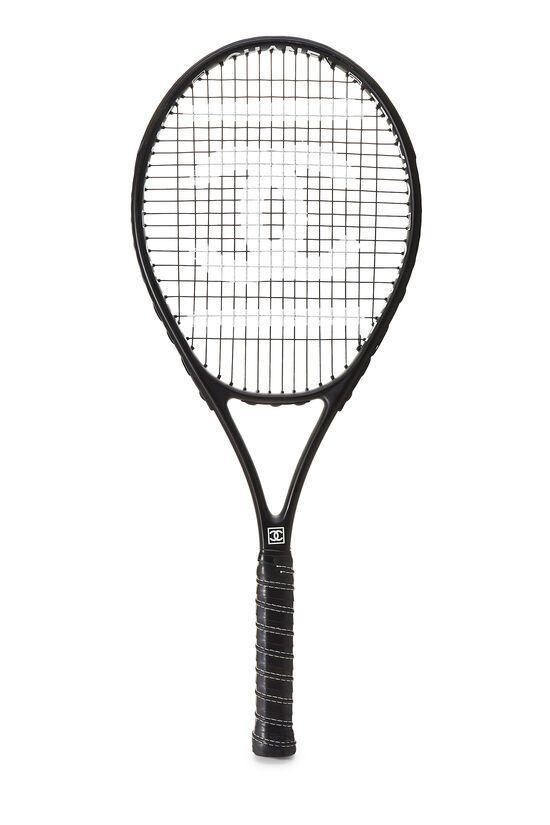Tennis-Racket: (132, 39, 424, 747)
